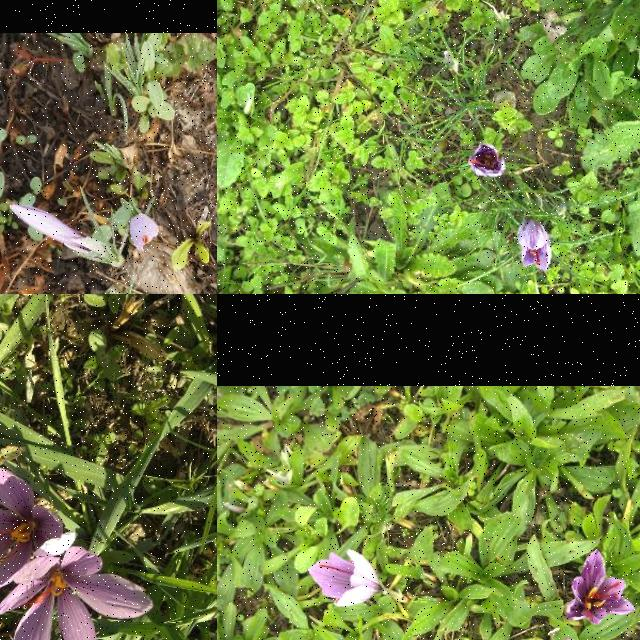flower: (0, 548, 154, 640), (0, 468, 75, 593), (567, 552, 635, 624), (6, 203, 96, 255), (310, 549, 380, 607), (521, 222, 553, 270), (130, 214, 160, 256), (470, 144, 506, 178)
